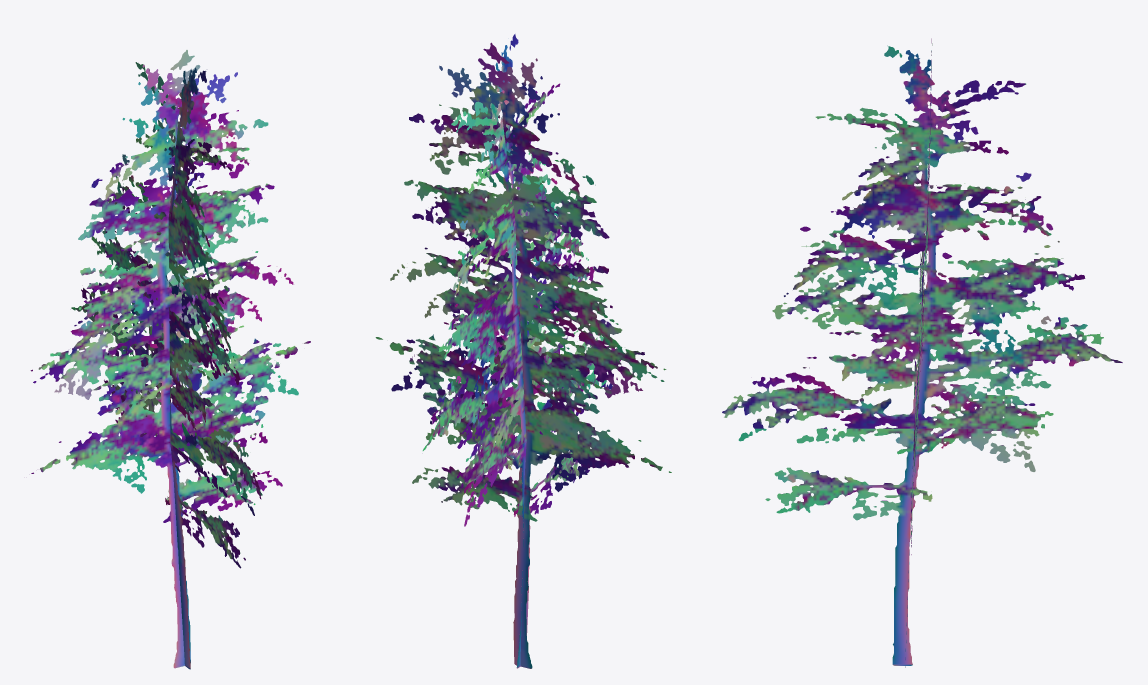
The model's file is beech_tree_01_cross.FBX.
3 renders of one model, left to right at view 1: azimuth 30°, elevation 25°; view 2: azimuth 150°, elevation 25°; view 3: azimuth 270°, elevation 25°, orthographic. The views are drawn at different scales.
Visible parts, largest first — view 1: beech_tree_01_cross; view 2: beech_tree_01_cross; view 3: beech_tree_01_cross.
Boxes of the visible parts, x1,y1,x2,y2 form: beech_tree_01_cross: (30,50,310,669); beech_tree_01_cross: (375,34,671,668); beech_tree_01_cross: (722,38,1122,667).
Bounding box in the file's own units: 5364 × 9880 × 5816.
